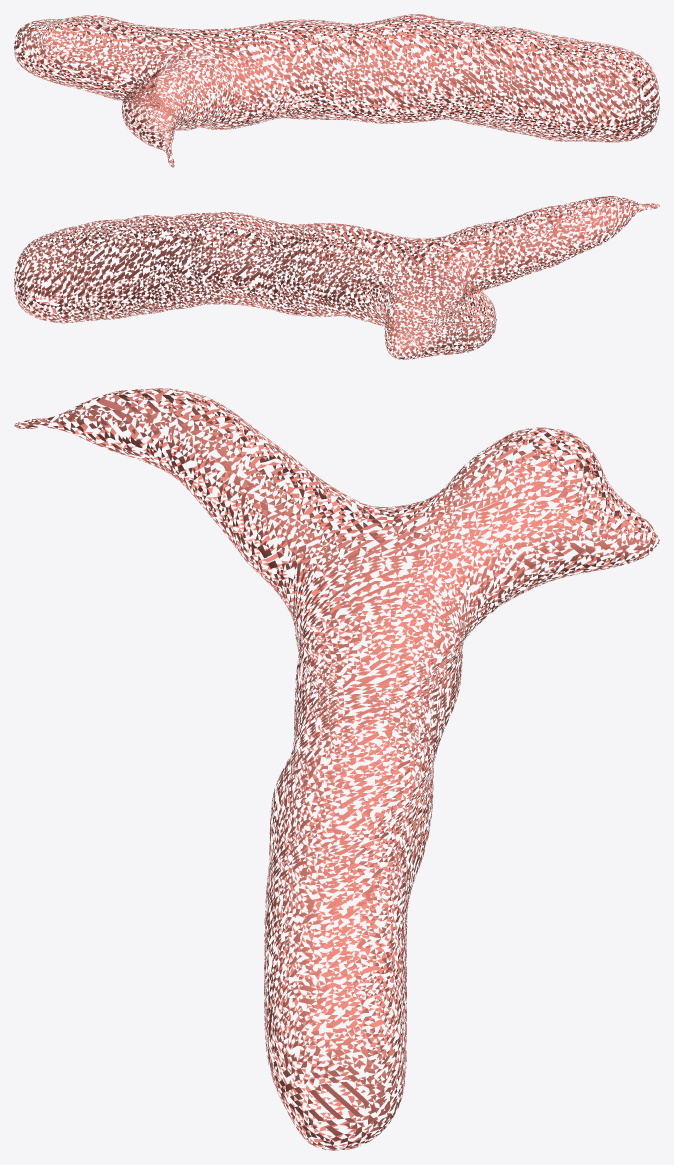
The model's file is diseased.glb.
3 renders of one model, top to bottom at view 1: azimuth 30°, elevation 25°; view 2: azimuth 150°, elevation 25°; view 3: azimuth 270°, elevation 25°, orthographic. The views are drawn at different scales.
Bounding box in the file's own units: 111 × 38.91 × 66.93.
